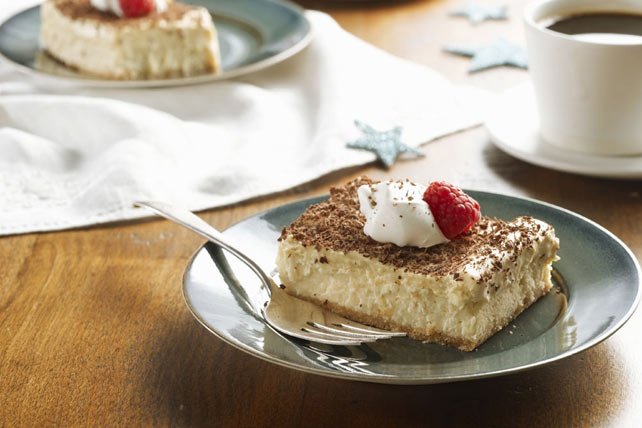background: (277, 116, 563, 235), (98, 7, 642, 29), (39, 0, 221, 52)
